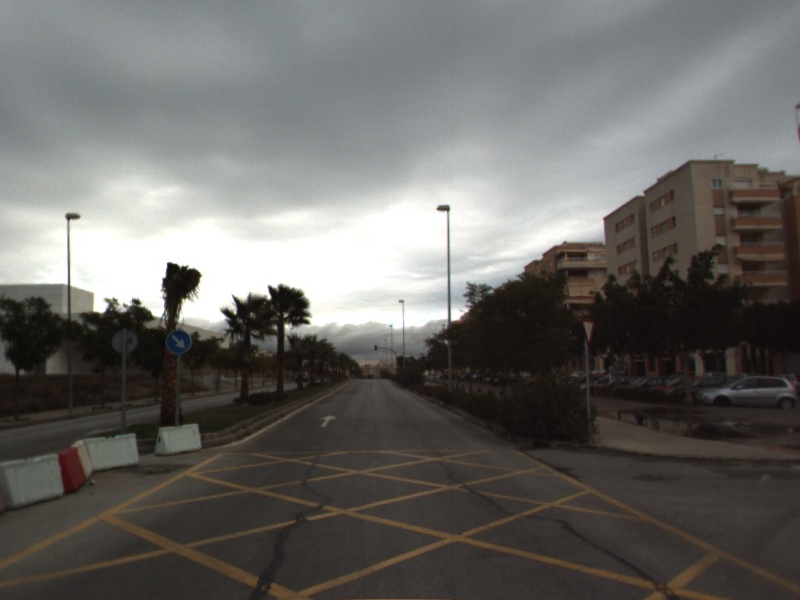STRAIGHT: (317, 413, 339, 429)
